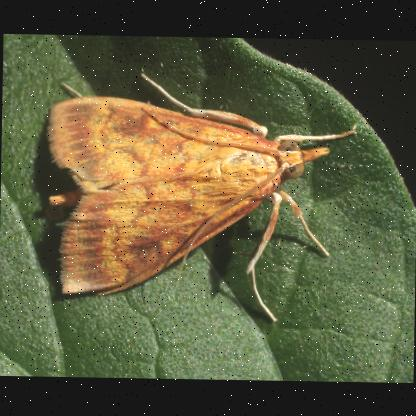Asian Corn Borer Moth: (39, 67, 361, 327)
